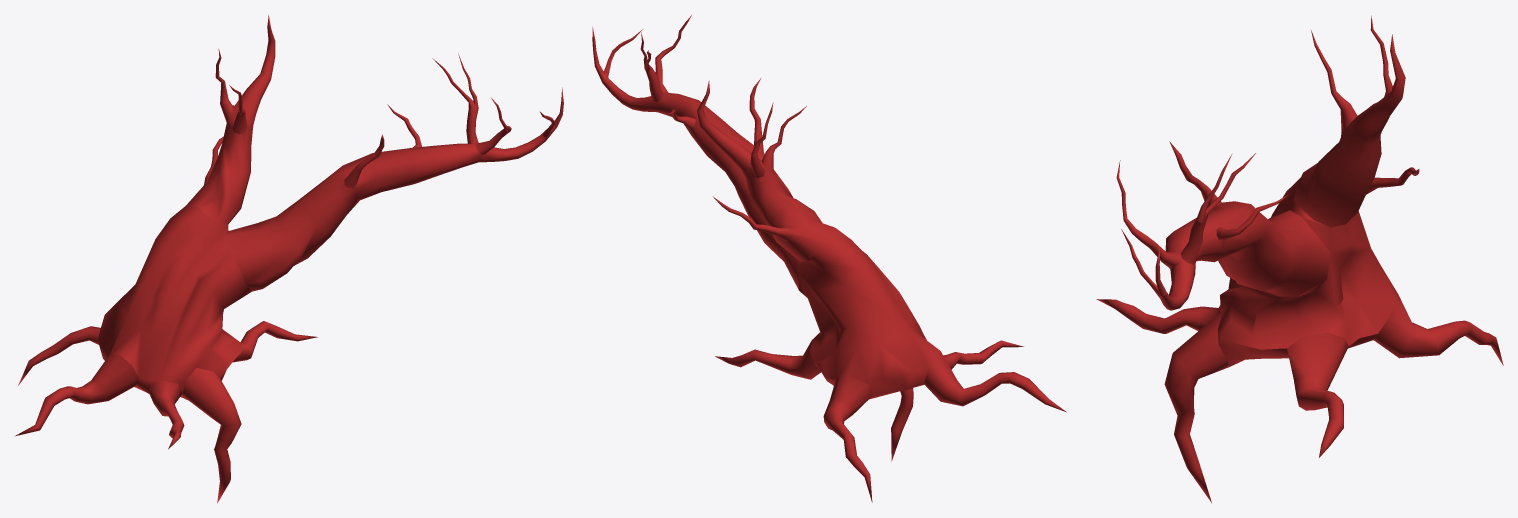
Rendered from Moss_Bark.FBX.
3 views of the same model, side by side, from view 1: azimuth 30°, elevation 25°; view 2: azimuth 150°, elevation 25°; view 3: azimuth 270°, elevation 25° (orthographic). The views are drawn at different scales.
Visible parts, largest first — view 1: Cylinder002; view 2: Cylinder002; view 3: Cylinder002.
Part boxes in pixels (left/top/right/bottom): Cylinder002: left=15, top=15, right=563, bottom=503; Cylinder002: left=592, top=15, right=1066, bottom=502; Cylinder002: left=1096, top=15, right=1503, bottom=502.
Bounding box in the file's own units: 616 × 468 × 315.
